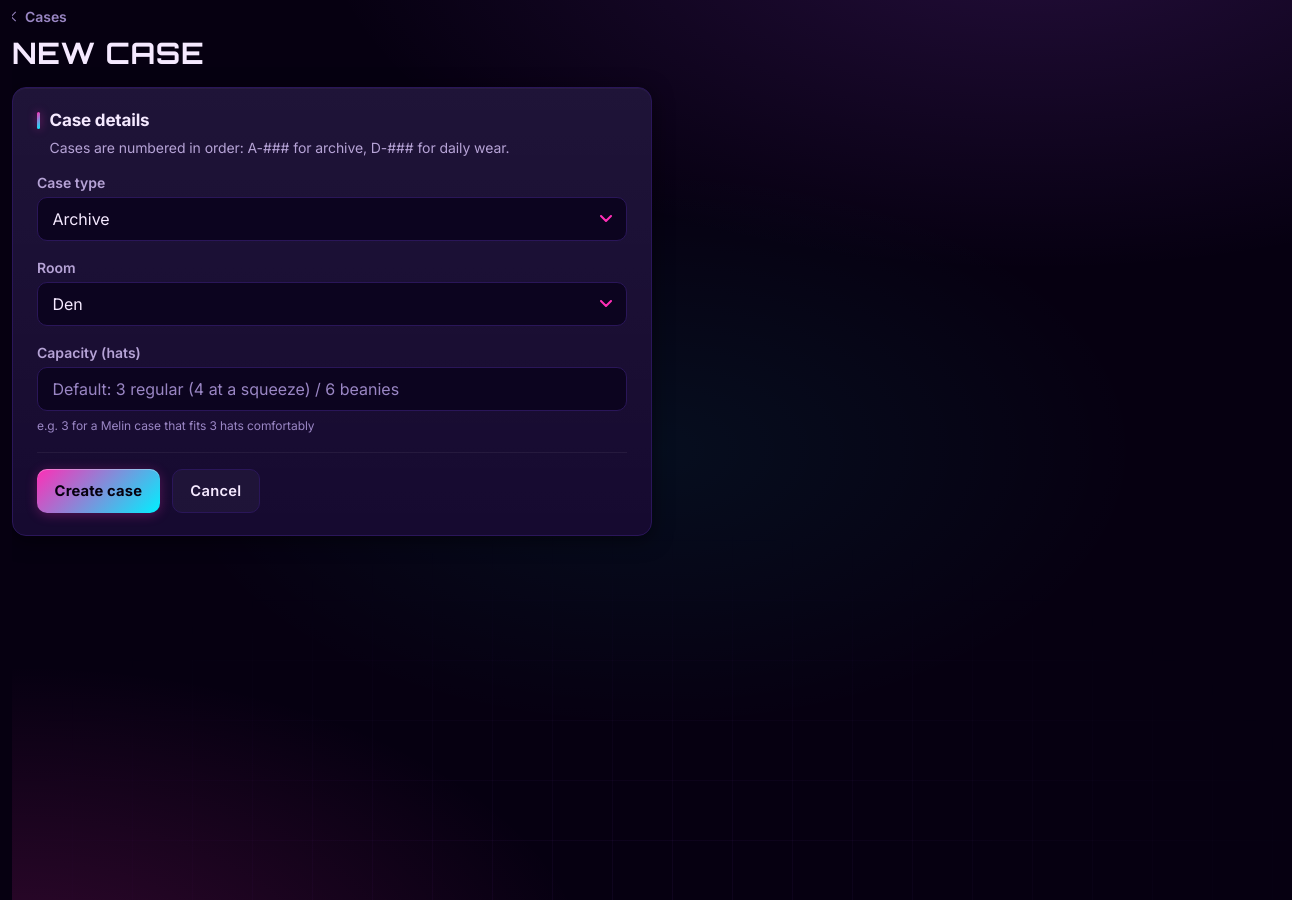
Test case: NewCasePage › preselects the default room, creates on Enter, and opens the new case
Expected: the dropdown labelled "Room" shows "Den", [37, 282, 627, 326]
Type "4" into the number field labelled "Capacity (hats)" at [332, 389], box [37, 367, 627, 411]
Then press Enter
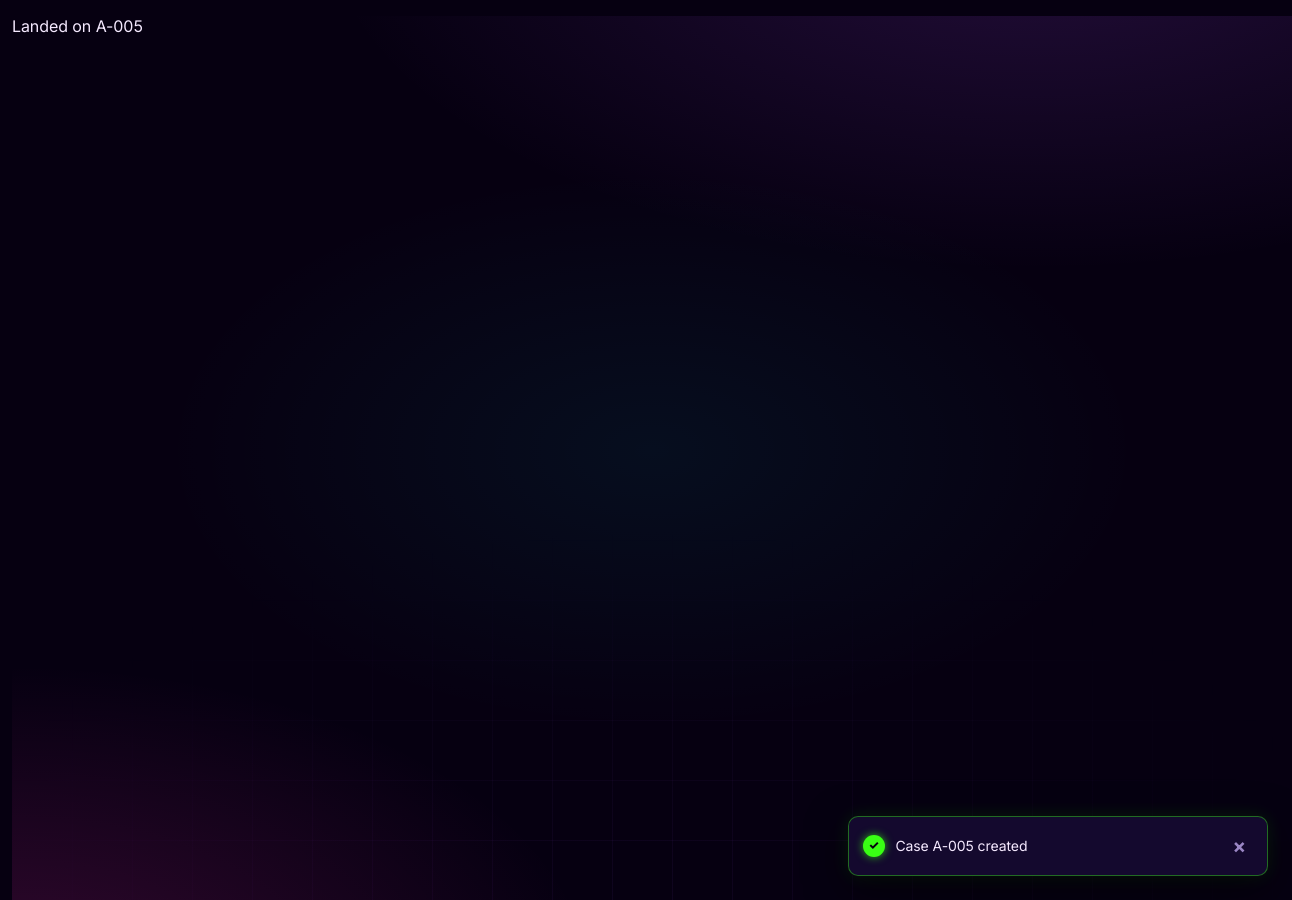
Now the text "Landed on A-005" is shown, box [12, 16, 143, 36]
Now the text "Case A-005 created" is shown, box [895, 837, 1027, 854]
